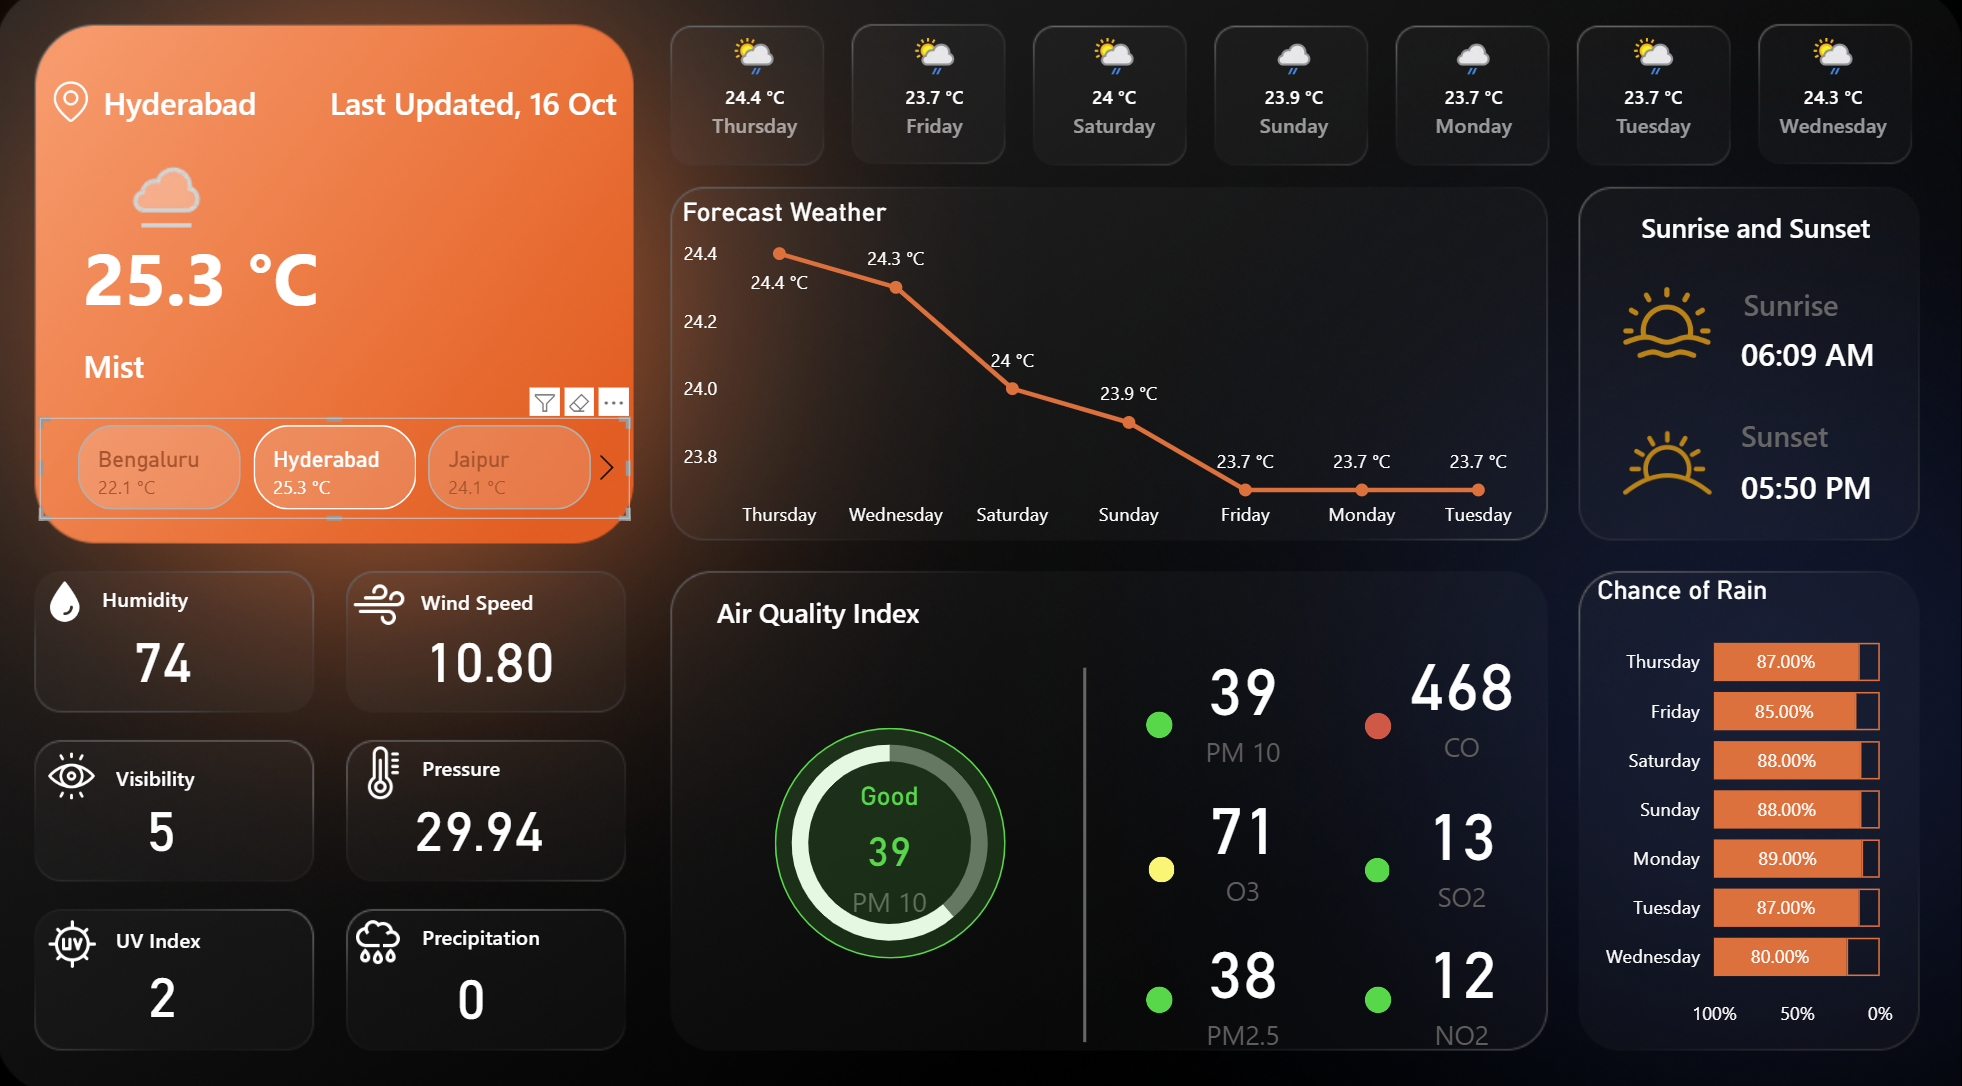

The page's visual inventory and layout, read from the dashboard file:
{"tool":"powerbi","page":{"name":"Page 1","canvas":[1280,720],"ordinal":0},"visuals":[{"type":"advancedSlicerVisual","fields":{"Values":["Locations.location.name"]},"box":[28.4,279.1,384.5,65.6],"z":0},{"type":"shape","box":[56.7,155,230.3,60.2],"z":1000},{"type":"shape","box":[56.7,226.8,335.8,36.3],"z":2000},{"type":"shape","box":[70,54.9,128.5,36.3],"z":3000},{"type":"shape","box":[198.5,54.9,205.5,36.3],"z":4000},{"type":"image","box":[19.5,54.9,58.5,36.3],"z":5000},{"type":"cardVisual","fields":{"Data":["Min(Current.current.condition.icon)"]},"box":[56.7,83.3,104.5,87.7],"z":6000},{"type":"image","box":[21.3,492.6,56.7,39.9],"z":7000},{"type":"shape","box":[277.3,598,140.9,36.3],"z":8000},{"type":"shape","box":[277.3,488.2,128.5,36.3],"z":9000},{"type":"shape","box":[78,494.4,129.3,36.3],"z":10000},{"type":"shape","box":[276.4,380.1,128.5,36.3],"z":11000},{"type":"shape","box":[69.1,378.3,129.3,36.3],"z":12000},{"type":"shape","box":[78,600.7,129.3,36.3],"z":13000},{"type":"image","box":[19.5,380.1,50.5,38.1],"z":14000},{"type":"image","box":[222.4,378.3,54,45.2],"z":15000},{"type":"image","box":[225.9,488.2,51.4,44.3],"z":16000},{"type":"image","box":[28.4,600.7,42.5,42.5],"z":17000},{"type":"image","box":[225.9,598,45.2,45.2],"z":18000},{"type":"cardVisual","fields":{"Data":["Sum(Current.current.humidity)"]},"box":[50.5,389.5,116.6,89.4],"z":19000},{"type":"cardVisual","fields":{"Data":["Sum(Current.current.precip_in)"]},"box":[251.6,609,116.6,88.4],"z":20000},{"type":"cardVisual","fields":{"Data":["Sum(Current.current.uv)"]},"box":[50.5,608,116.6,88.4],"z":21000},{"type":"cardVisual","fields":{"Data":["Sum(Current.current.vis_km)"]},"box":[48.6,499.3,117.5,88.4],"z":22000},{"type":"cardVisual","fields":{"Data":["Sum(Current.current.pressure_in)"]},"box":[251.6,499.3,126.3,88.4],"z":23000},{"type":"cardVisual","fields":{"Data":["Sum(Current.current.wind_kph)"]},"box":[251.6,389.8,140.9,88.6],"z":24000},{"type":"advancedSlicerVisual","fields":{"Values":["Forecast_Day.Day_Name"]},"box":[434.2,21.4,823.7,94.2],"z":25000},{"type":"lineChart","title":"Forecast Weather","fields":{"Y":["Sum(Forecast_Day.forecast.forecastday.day.avgtemp_c)"],"Category":["Forecast_Day.Day_Name"]},"box":[442.1,134.9,558.7,225.4],"z":26000},{"type":"shape","box":[1045.2,136.8,201.3,36.6],"z":27000},{"type":"shape","box":[1137.6,184,97.3,42.4],"z":28000},{"type":"shape","box":[1135.7,215.8,97.3,42.4],"z":29000},{"type":"shape","box":[1135.7,269.7,97.3,42.4],"z":30000},{"type":"shape","box":[1135.7,302.5,97.3,42.4],"z":31000},{"type":"image","box":[1045.2,264.9,86.7,86.7],"z":32000},{"type":"image","box":[1050.9,184,75.1,66.5],"z":33000},{"type":"hundredPercentStackedBarChart","title":"Chance of Rain","fields":{"Category":["Forecast_Day.Day_Name"],"Y":["_Measures.Left_Value_Rain","Sum(Forecast_Day.forecast.forecastday.day.daily_chance_of_rain)"]},"box":[1037.4,380.5,209,304.4],"z":34000},{"type":"shape","box":[434.4,387.2,201.3,36.6],"z":35000},{"type":"card","fields":{"Values":["Sum(Current.current.air_quality.pm10)"]},"box":[765.6,418.3,92.5,93.4],"z":36000},{"type":"card","fields":{"Values":["Sum(Current.current.air_quality.o3)"]},"box":[765.8,508.6,92.5,93.4],"z":37000},{"type":"card","fields":{"Values":["Sum(Current.current.air_quality.so2)"]},"box":[908.4,512.5,92.5,93.4],"z":38000},{"type":"card","fields":{"Values":["Sum(Current.current.air_quality.no2)"]},"box":[908.4,602,92.5,93.4],"z":39000},{"type":"card","fields":{"Values":["Sum(Current.current.air_quality.co)"]},"box":[908.4,415.2,92.5,93.4],"z":40000},{"type":"card","fields":{"Values":["Sum(Current.current.air_quality.pm2_5)"]},"box":[765.8,602,92.5,93.4],"z":41000},{"type":"shape","box":[748.5,470.1,17.3,17.3],"z":42000},{"type":"shape","box":[748.5,649.2,17.3,17.3],"z":43000},{"type":"shape","box":[750.4,564.5,17,17],"z":44000},{"type":"shape","box":[891,471,17.3,17.3],"z":45000},{"type":"shape","box":[891,565.4,16.4,16.4],"z":46000},{"type":"shape","box":[891,649.2,17.3,17.3],"z":47000},{"type":"shape","box":[672.4,442.1,73.2,243.7],"z":48000},{"type":"card","fields":{"Values":["Sum(Current.current.air_quality.pm10)"]},"box":[535.6,515.4,92.5,93.4],"z":49000},{"type":"donutChart","fields":{"Y":["Sum(Current.current.air_quality.pm10)","_Measures.Left_value_PM_10"]},"box":[497.1,471,169.5,169.5],"z":50000},{"type":"shape","box":[506.7,480.7,150.3,150.3],"z":51000}]}

Visuals, with their boxes in screenshot pixels (x1, y1, x2, y2), scaled from the page's 1280x720 canvas onto the 1962x1086 screenshot:
advancedSlicerVisual - Locations.location.name: box=[44, 421, 633, 520]
shape: box=[87, 234, 440, 325]
shape: box=[87, 342, 602, 397]
shape: box=[107, 83, 304, 138]
shape: box=[304, 83, 619, 138]
image: box=[30, 83, 120, 138]
cardVisual - Min(Current.current.condition.icon): box=[87, 126, 247, 258]
image: box=[33, 743, 120, 803]
shape: box=[425, 902, 641, 957]
shape: box=[425, 736, 622, 791]
shape: box=[120, 746, 318, 800]
shape: box=[424, 573, 621, 628]
shape: box=[106, 571, 304, 625]
shape: box=[120, 906, 318, 961]
image: box=[30, 573, 107, 631]
image: box=[341, 571, 424, 639]
image: box=[346, 736, 425, 803]
image: box=[44, 906, 109, 970]
image: box=[346, 902, 416, 970]
cardVisual - Sum(Current.current.humidity): box=[77, 587, 256, 722]
cardVisual - Sum(Current.current.precip_in): box=[386, 919, 564, 1052]
cardVisual - Sum(Current.current.uv): box=[77, 917, 256, 1050]
cardVisual - Sum(Current.current.vis_km): box=[74, 753, 255, 886]
cardVisual - Sum(Current.current.pressure_in): box=[386, 753, 579, 886]
cardVisual - Sum(Current.current.wind_kph): box=[386, 588, 602, 722]
advancedSlicerVisual - Forecast_Day.Day_Name: box=[666, 32, 1928, 174]
"Forecast Weather" lineChart: box=[678, 203, 1534, 543]
shape: box=[1602, 206, 1911, 262]
shape: box=[1744, 278, 1893, 341]
shape: box=[1741, 325, 1890, 389]
shape: box=[1741, 407, 1890, 471]
shape: box=[1741, 456, 1890, 520]
image: box=[1602, 400, 1735, 530]
image: box=[1611, 278, 1726, 378]
"Chance of Rain" hundredPercentStackedBarChart: box=[1590, 574, 1910, 1033]
shape: box=[666, 584, 974, 639]
card - Sum(Current.current.air_quality.pm10): box=[1174, 631, 1315, 772]
card - Sum(Current.current.air_quality.o3): box=[1174, 767, 1316, 908]
card - Sum(Current.current.air_quality.so2): box=[1392, 773, 1534, 914]
card - Sum(Current.current.air_quality.no2): box=[1392, 908, 1534, 1049]
card - Sum(Current.current.air_quality.co): box=[1392, 626, 1534, 767]
card - Sum(Current.current.air_quality.pm2_5): box=[1174, 908, 1316, 1049]
shape: box=[1147, 709, 1174, 735]
shape: box=[1147, 979, 1174, 1005]
shape: box=[1150, 851, 1176, 877]
shape: box=[1366, 710, 1392, 737]
shape: box=[1366, 853, 1391, 878]
shape: box=[1366, 979, 1392, 1005]
shape: box=[1031, 667, 1143, 1034]
card - Sum(Current.current.air_quality.pm10): box=[821, 777, 963, 918]
donutChart - Sum(Current.current.air_quality.pm10) x _Measures.Left_value_PM_10: box=[762, 710, 1022, 966]
shape: box=[777, 725, 1007, 952]
